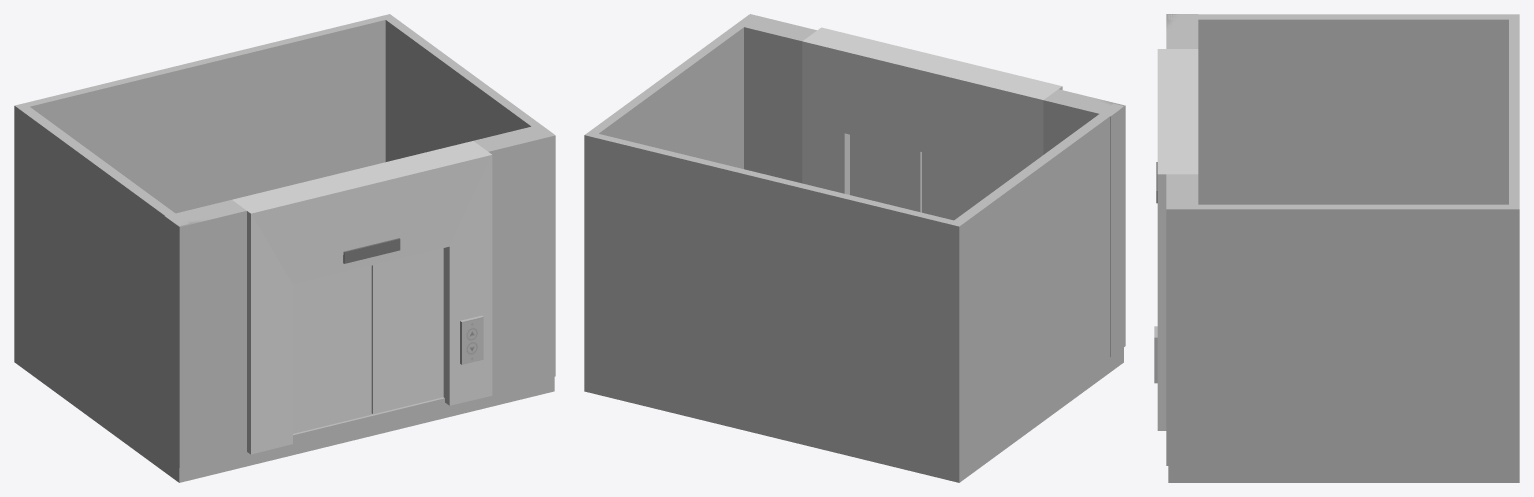
File: group_elevator.fbx
3 renders of one model, left to right at view 1: azimuth 30°, elevation 25°; view 2: azimuth 150°, elevation 25°; view 3: azimuth 270°, elevation 25°, orthographic. The views are drawn at different scales.
Parts seen in each view (by area): view 1: obj_elevator, obj_door_elevator_2, obj_door_elevator_1; view 2: obj_elevator, obj_door_elevator_1, obj_door_elevator_2; view 3: obj_elevator.
Boxes of the visible parts, <box> form: obj_elevator: <box>14,14,555,482</box>; obj_door_elevator_2: <box>293,265,371,433</box>; obj_door_elevator_1: <box>371,248,443,414</box>; obj_elevator: <box>584,14,1125,482</box>; obj_door_elevator_1: <box>850,134,921,212</box>; obj_door_elevator_2: <box>922,152,1000,220</box>; obj_elevator: <box>1154,14,1519,482</box>.
Bounding box in the file's own units: 3.56 × 2.32 × 2.81.
Materials: 1 (1 with a texture image).
